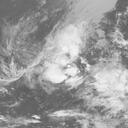cyclone: (31, 39, 81, 88)
